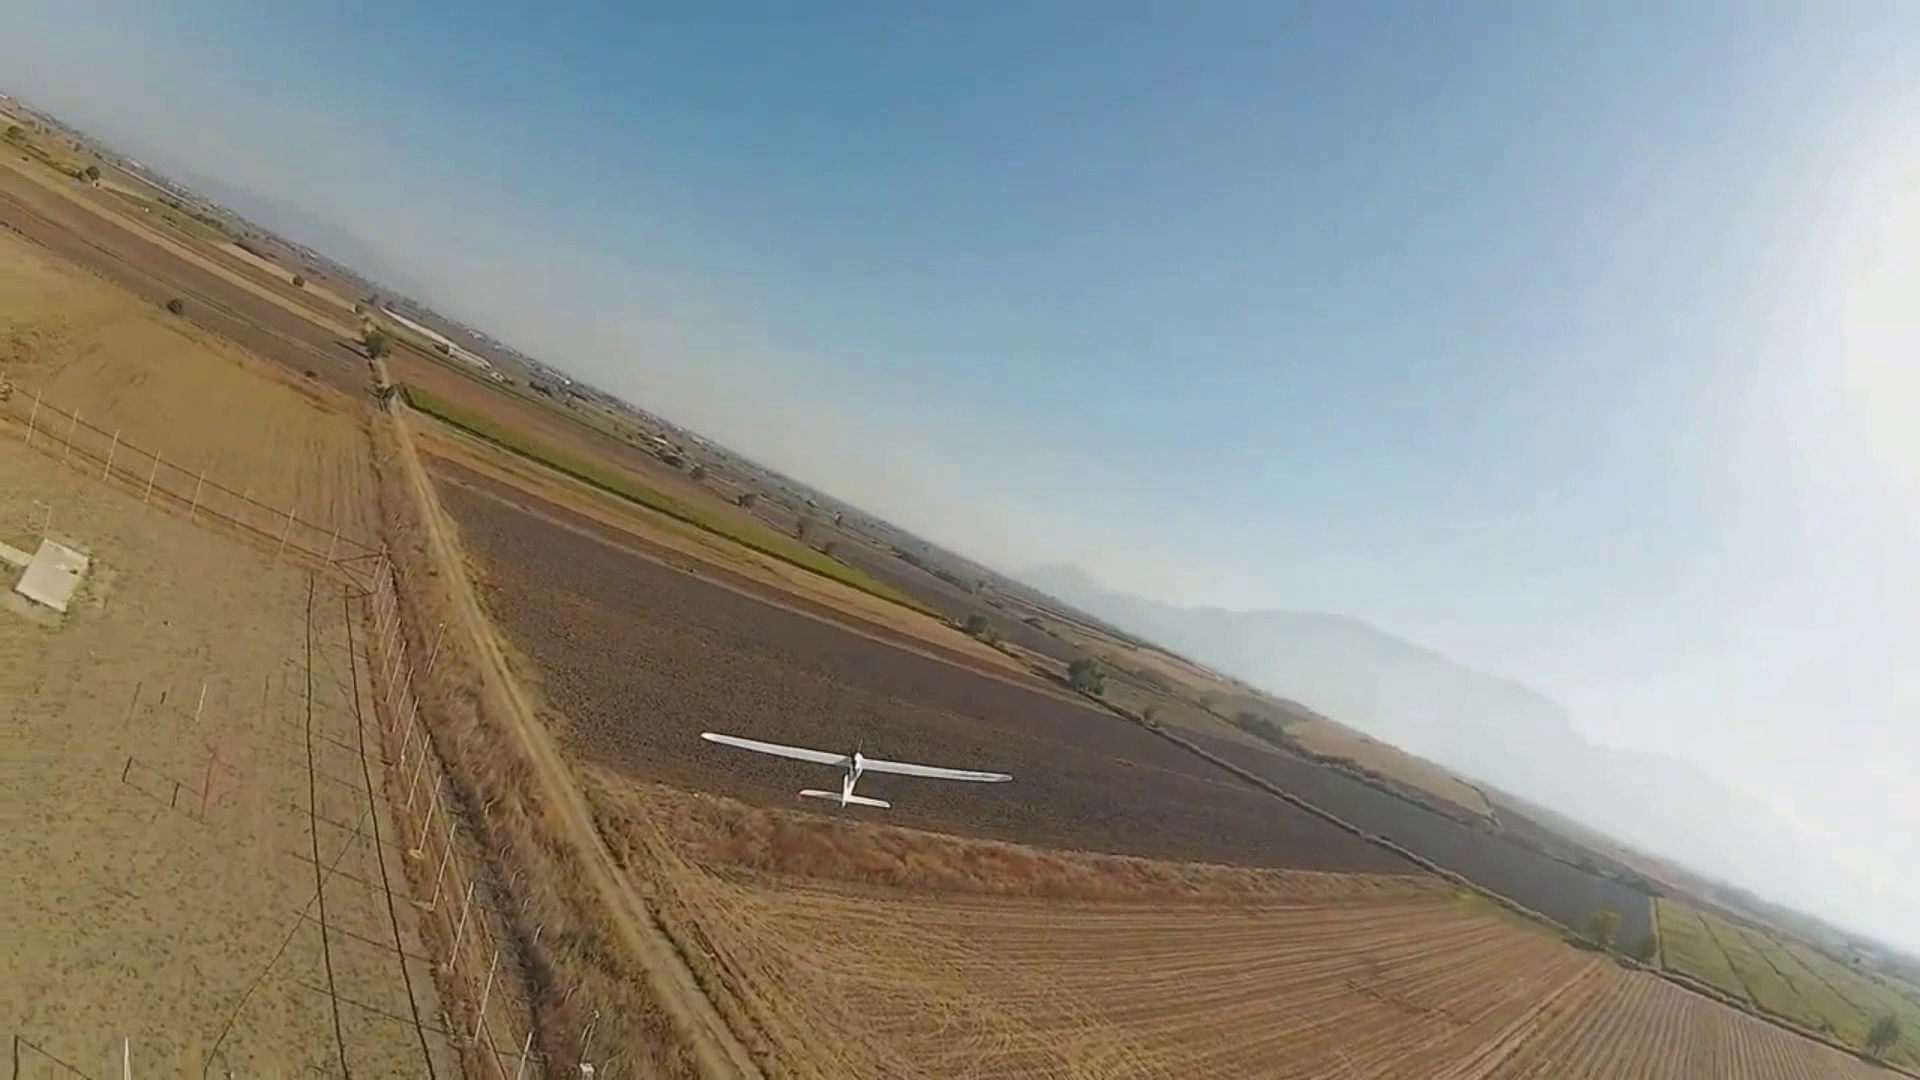airplane: (15, 157, 1920, 1012), (699, 729, 1015, 812)
